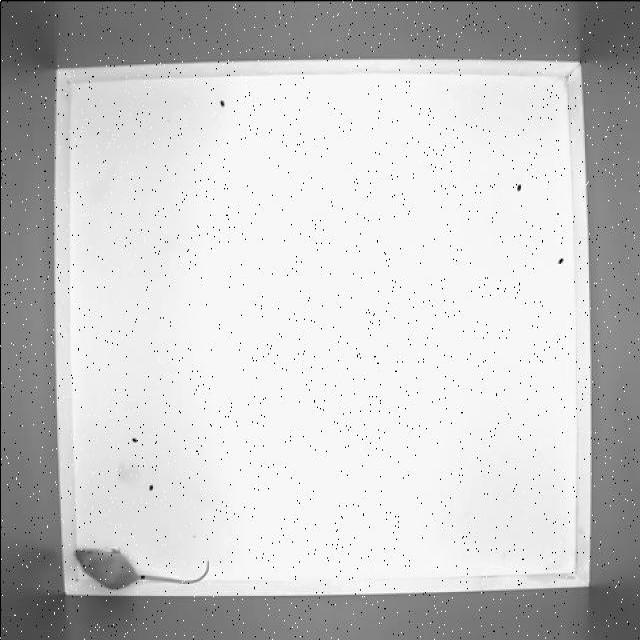rat: (72, 537, 212, 592)
